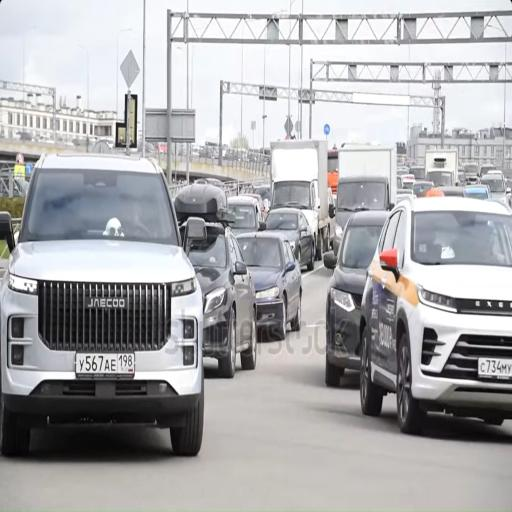License plates: (76, 353, 134, 376), (478, 358, 511, 379)
